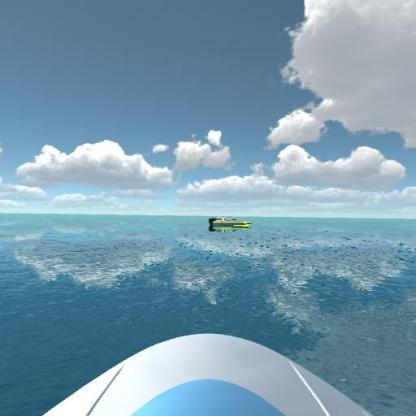usv2: (208, 212, 254, 236)
